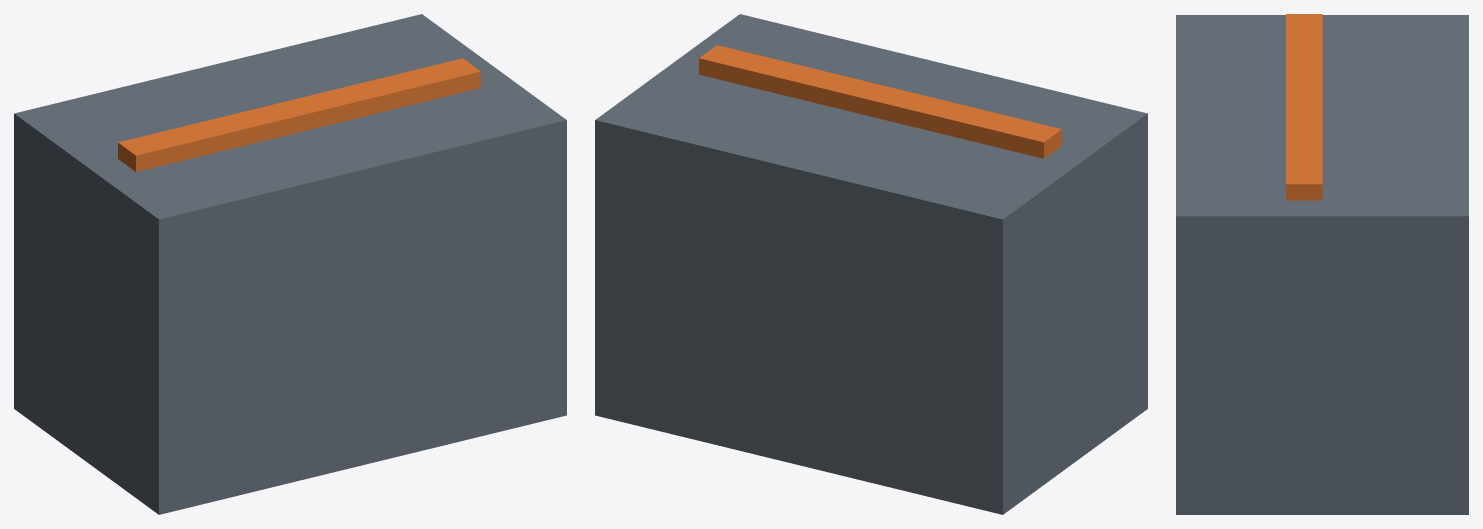
Rendered from voxel_32_50015.glb.
3 views of the same model, side by side, from view 1: azimuth 30°, elevation 25°; view 2: azimuth 150°, elevation 25°; view 3: azimuth 270°, elevation 25° (orthographic).
Visible parts, largest first — view 1: prop_50015; view 2: prop_50015; view 3: prop_50015.
Part boxes in pixels (x1=…): prop_50015: x1=14, y1=14, x2=566, y2=514; prop_50015: x1=595, y1=14, x2=1147, y2=514; prop_50015: x1=1176, y1=14, x2=1468, y2=514.
Size of the model in its own units: 0.6744 by 0.4928 by 0.415.
